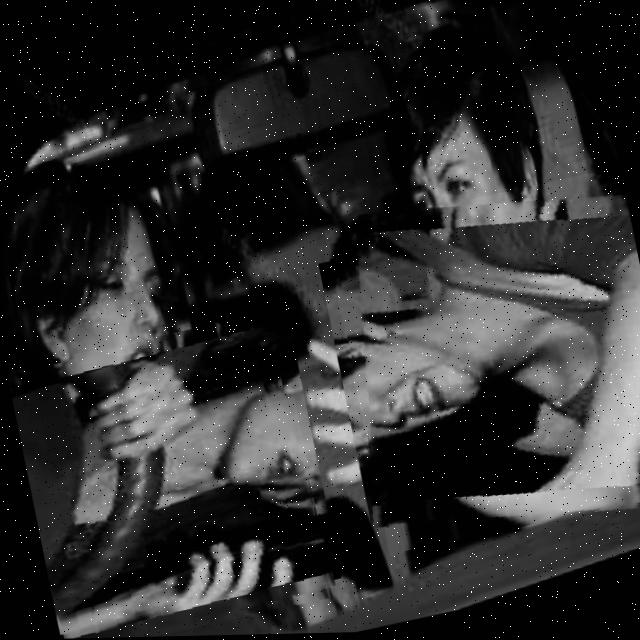no-seatbelt: (5, 311, 334, 640)
seatbelt: (323, 169, 640, 559)
